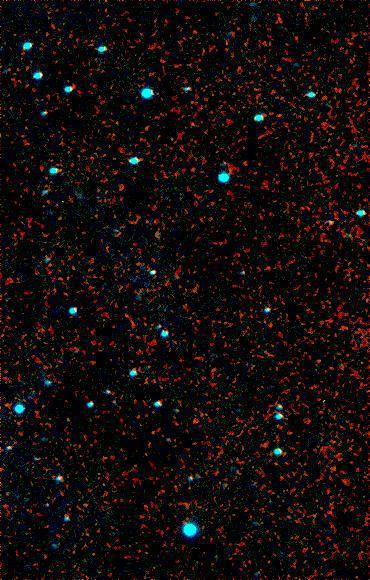star: (54, 403, 84, 433)
